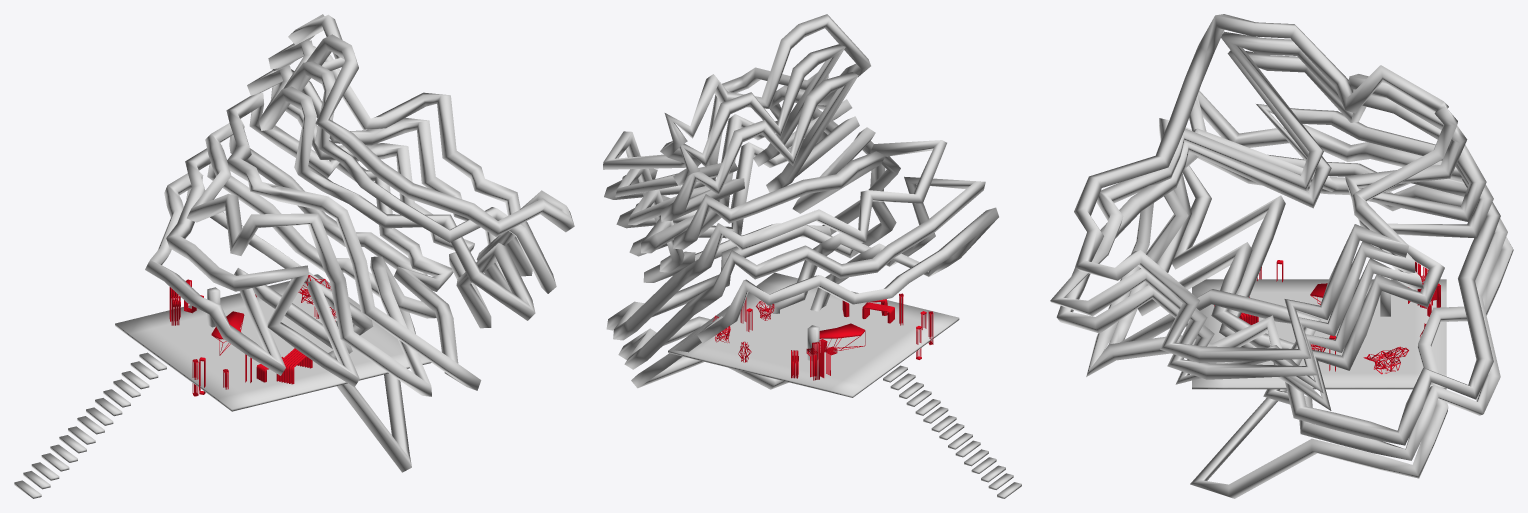
File: Сцена2.fbx
3 renders of one model, left to right at view 1: azimuth 30°, elevation 25°; view 2: azimuth 150°, elevation 25°; view 3: azimuth 270°, elevation 25°, orthographic. The views are drawn at different scales.
Parts seen in each view (by area): view 1: Сцена; view 2: Сцена; view 3: Сцена.
Part boxes in pixels (x1,y1,x2,y2): Сцена: (14, 14, 574, 498); Сцена: (603, 14, 1021, 498); Сцена: (1050, 14, 1513, 498).
Bounding box in the file's own units: 2169 × 1847 × 1704.
